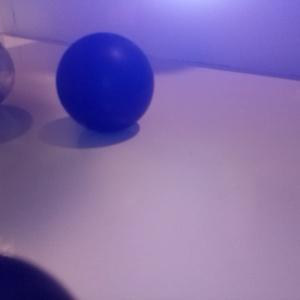alive_ball: (1, 44, 16, 103)
dead_ball: (56, 32, 156, 133), (1, 254, 82, 300)
